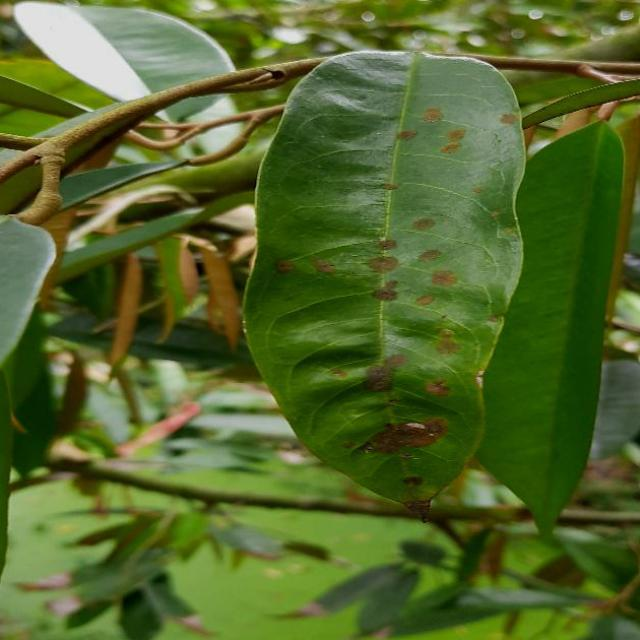Algal Leaf Spot: (232, 42, 536, 536)
